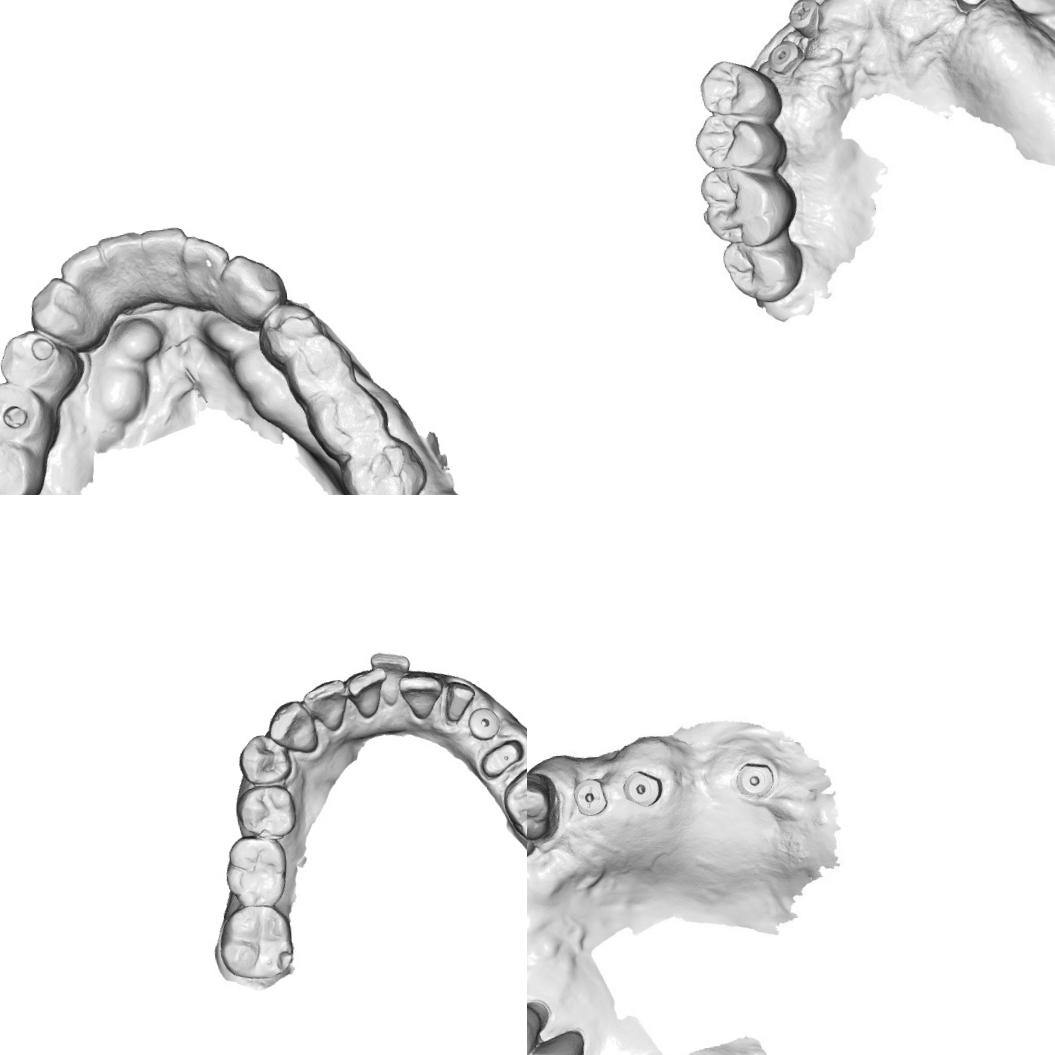canine: (213, 249, 291, 336), (25, 273, 104, 356), (263, 697, 322, 759), (527, 769, 560, 843)
crown: (475, 734, 527, 782), (440, 678, 480, 726)
implant: (614, 766, 672, 812), (734, 754, 780, 809), (464, 704, 504, 743), (766, 41, 808, 74)
implant_plus: (562, 772, 611, 816), (785, 0, 825, 34), (952, 0, 994, 13)
incisor: (134, 225, 193, 305), (56, 238, 111, 314), (96, 230, 148, 308), (179, 230, 232, 300), (394, 664, 444, 726), (368, 646, 416, 709), (300, 676, 352, 734), (346, 664, 390, 722)
molar: (696, 162, 795, 246), (214, 900, 300, 984), (302, 380, 394, 458), (713, 232, 805, 309), (219, 829, 294, 912), (334, 436, 431, 495), (0, 432, 41, 495), (499, 757, 527, 849)
premolar: (688, 104, 786, 174), (692, 50, 782, 120), (0, 324, 79, 401), (281, 329, 357, 400), (253, 298, 320, 366), (232, 782, 302, 842), (0, 378, 56, 447), (234, 730, 294, 788), (527, 1037, 584, 1055)
